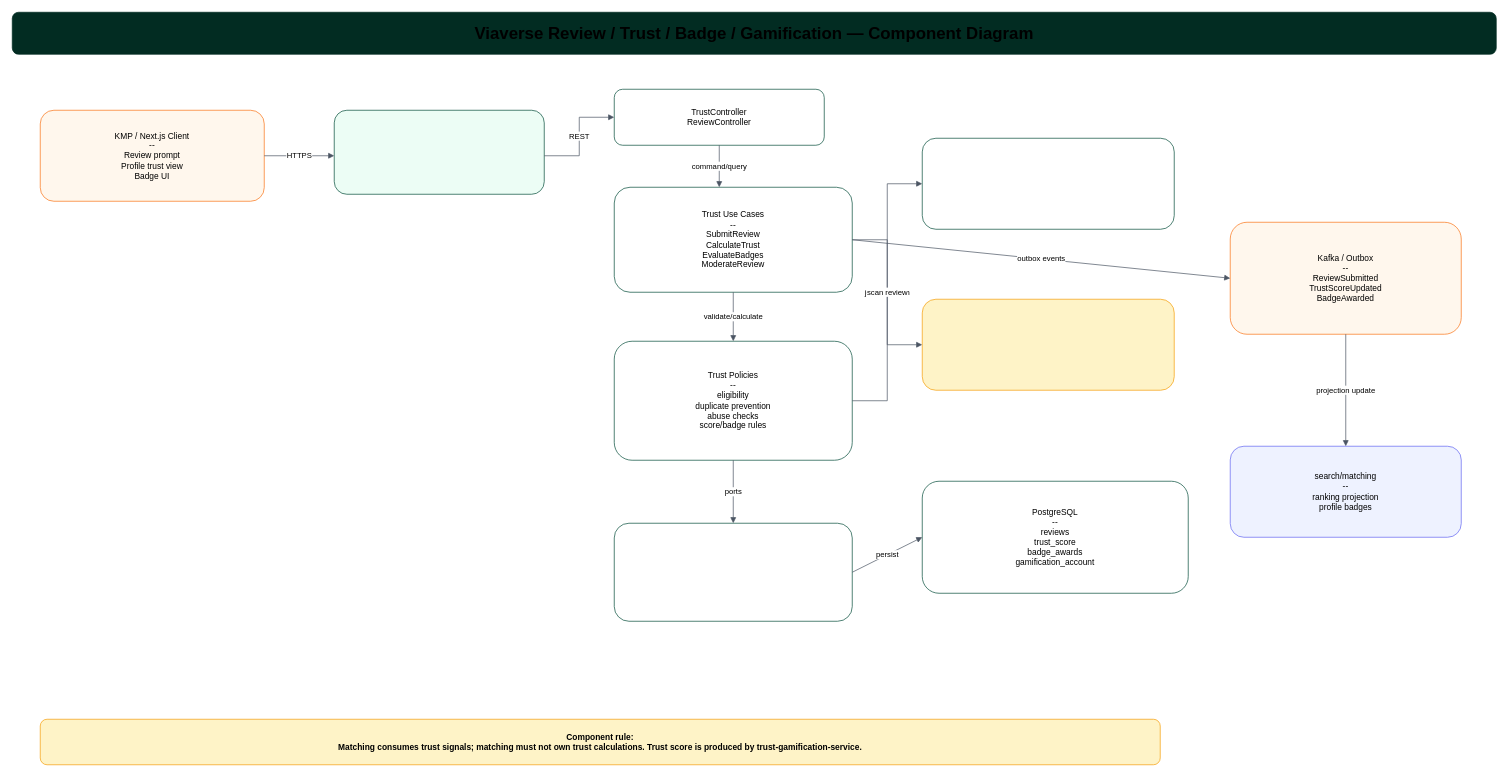
This 1509x777 diagram has some shape labels left out. Here are the shapes that lost their labels. From the top down, the box of each, then its label:
(334, 110, 544, 194): API Gateway / App BFF -- Review API Trust profile API
(922, 138, 1174, 229): marketplace-service -- job participant validation job completion signal
(922, 299, 1174, 390): moderation-service -- text abuse PII/spam/hate scan
(614, 523, 852, 621): Ports ReviewRepo TrustScoreRepo BadgeRepo OutboxPort
